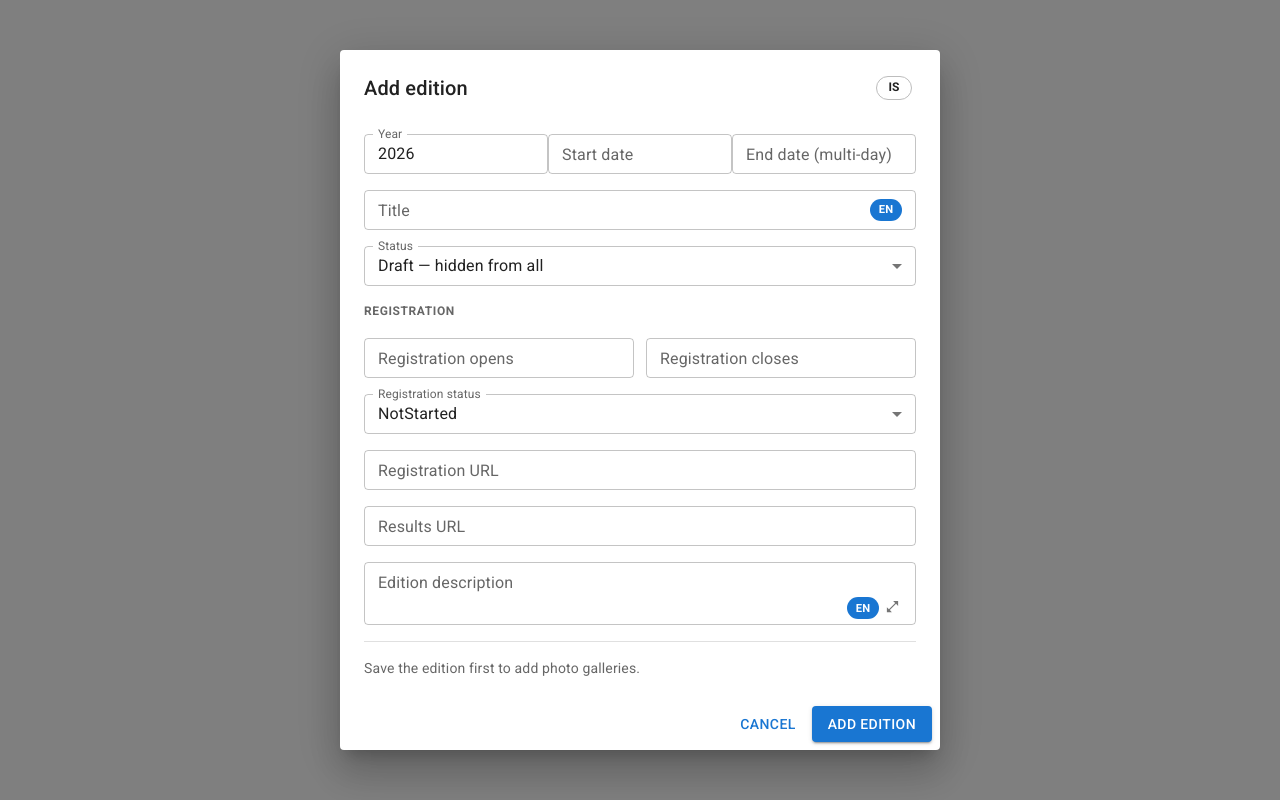
Test: EditionDialogInner — Status/Registration status Selects are reachable via getByLabelText (#977) › locates Status by label and changes it
Press the mouse on the dropdown named "Status" at (461, 266), box [378,256,544,275]
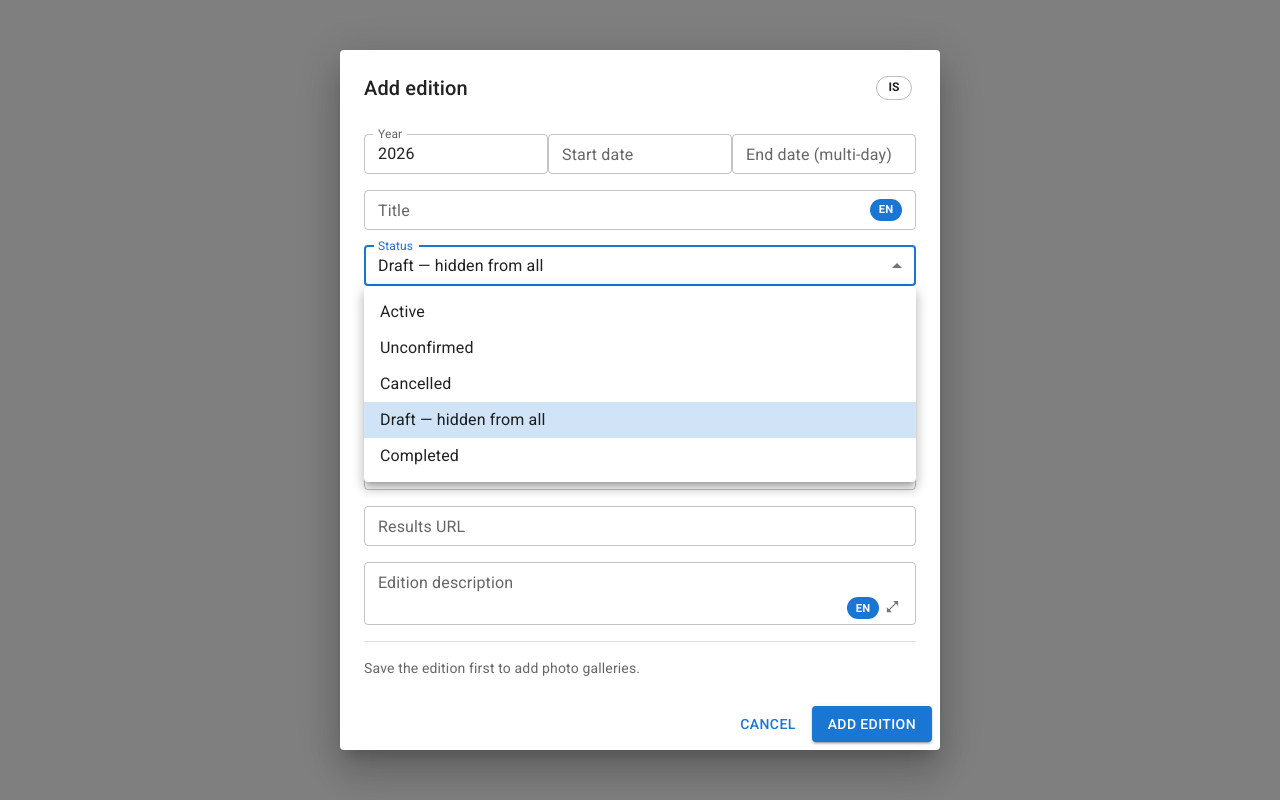
Click the option "Active".
click(402, 312)  # box [380,302,425,321]
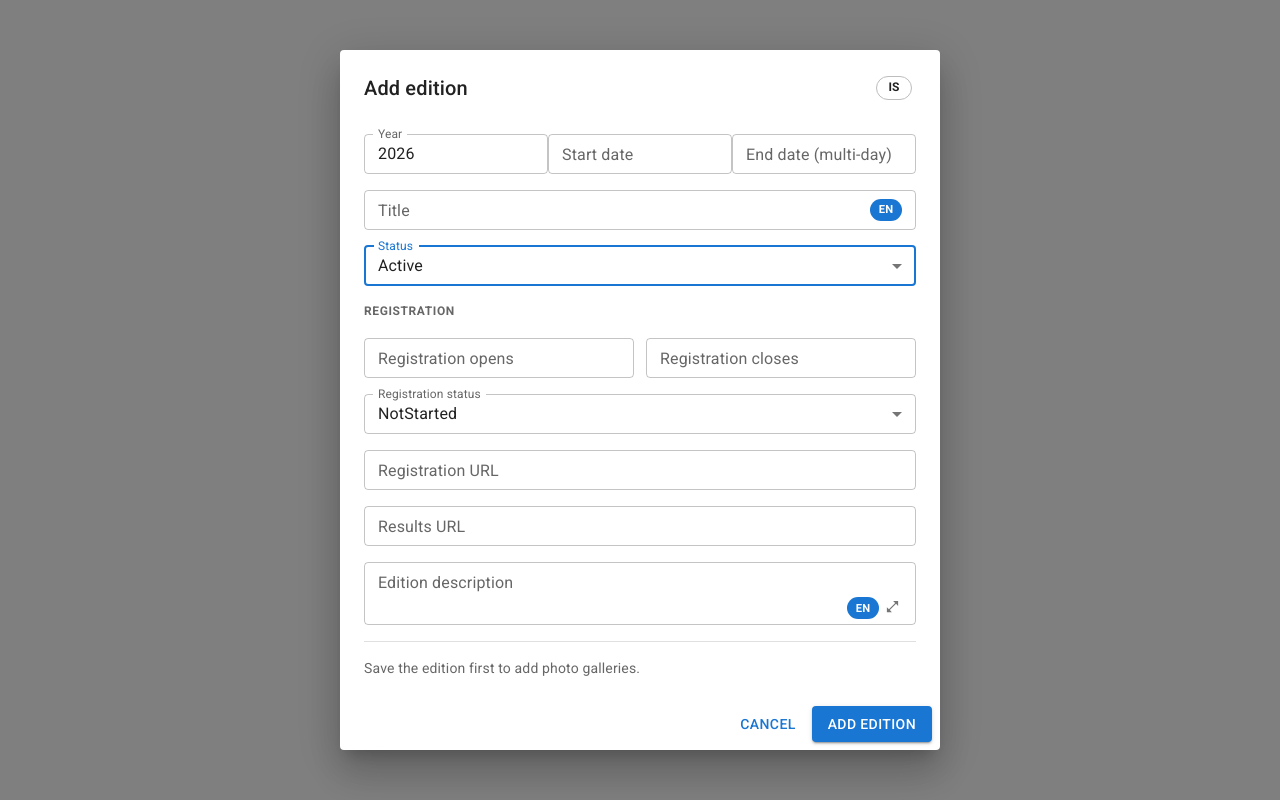
Expected: the dropdown named "Status" reads "Active", [378,256,423,275]
